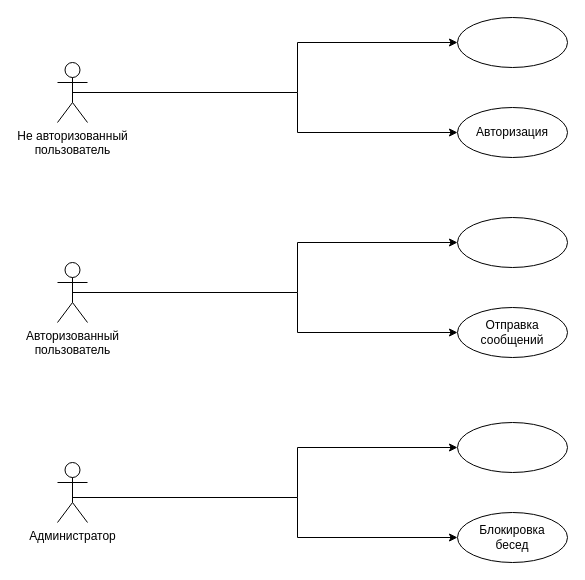
This 585x580 diagram has some shape labels left out. Each missing label, with the centre of its shape:
Блокировка пользователей: point 512,447
Регистрация: point 512,42
Создание бесед: point 512,242
